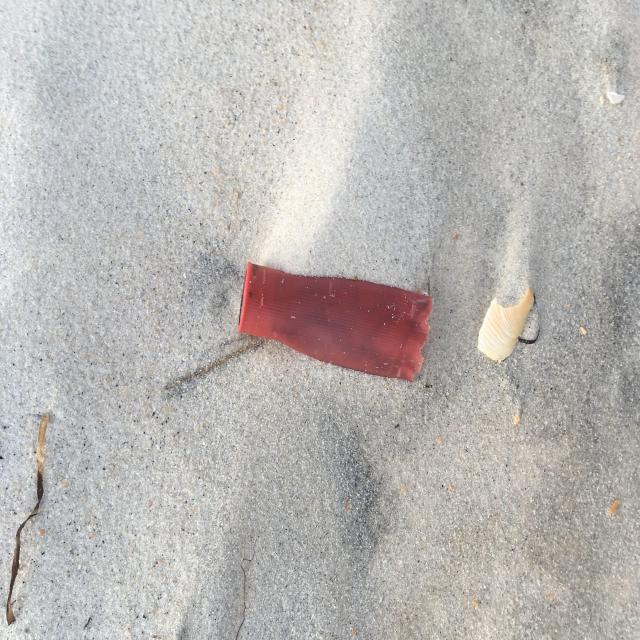litter: (238, 265, 433, 379)
